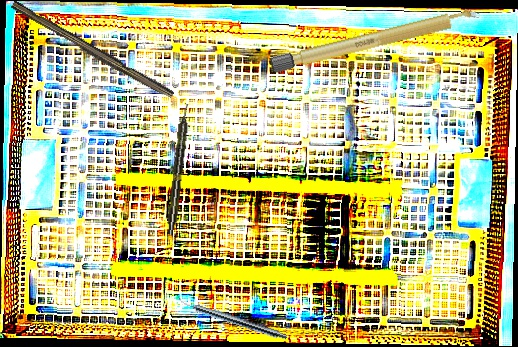Handpiece: (175, 295, 289, 342), (164, 102, 193, 236)
Scalpel Handle: (8, 0, 176, 102), (269, 5, 483, 74)
